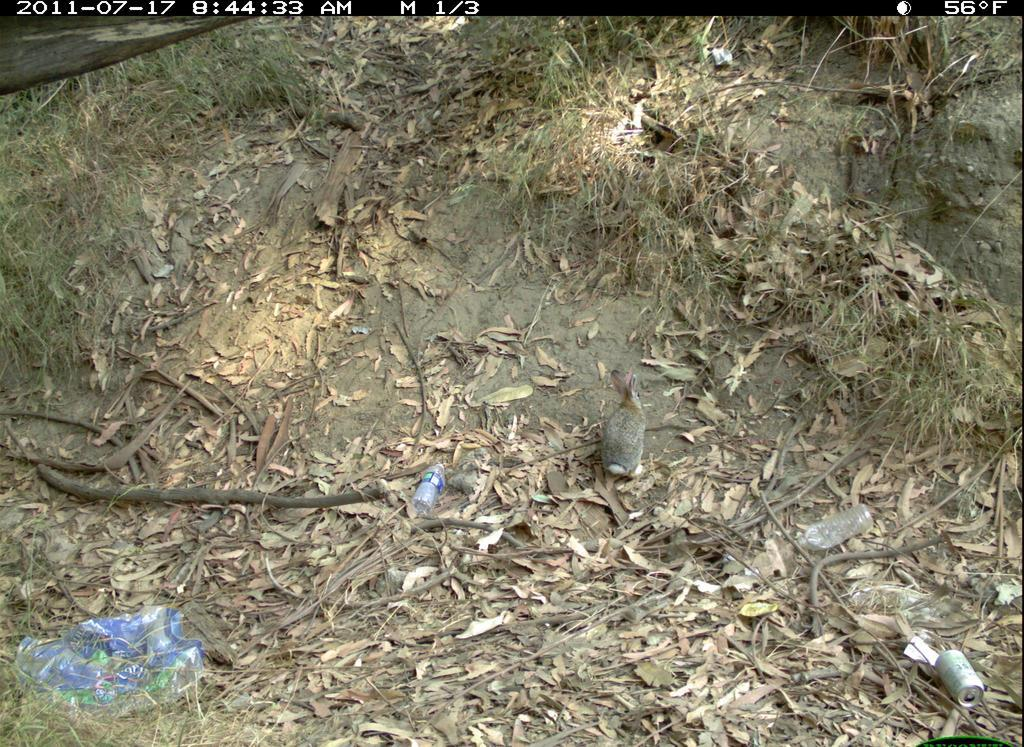rabbit: (593, 360, 664, 493)
